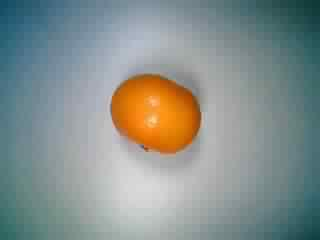orange: (105, 66, 202, 160)
